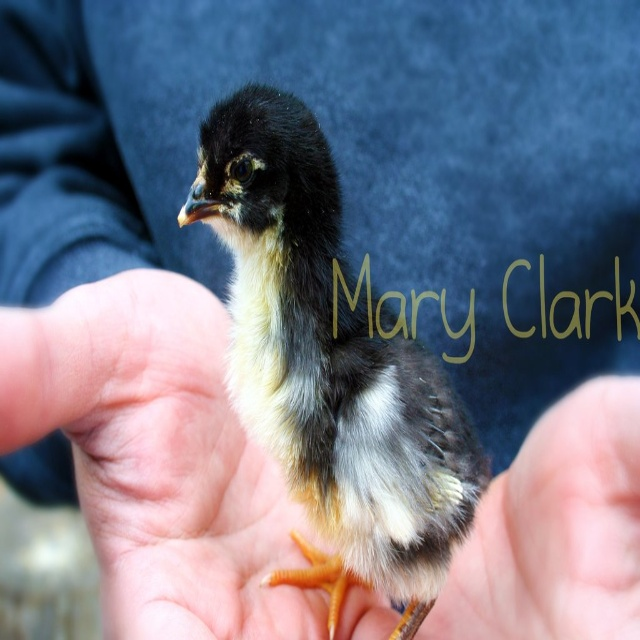Chicken: (185, 80, 487, 636)
